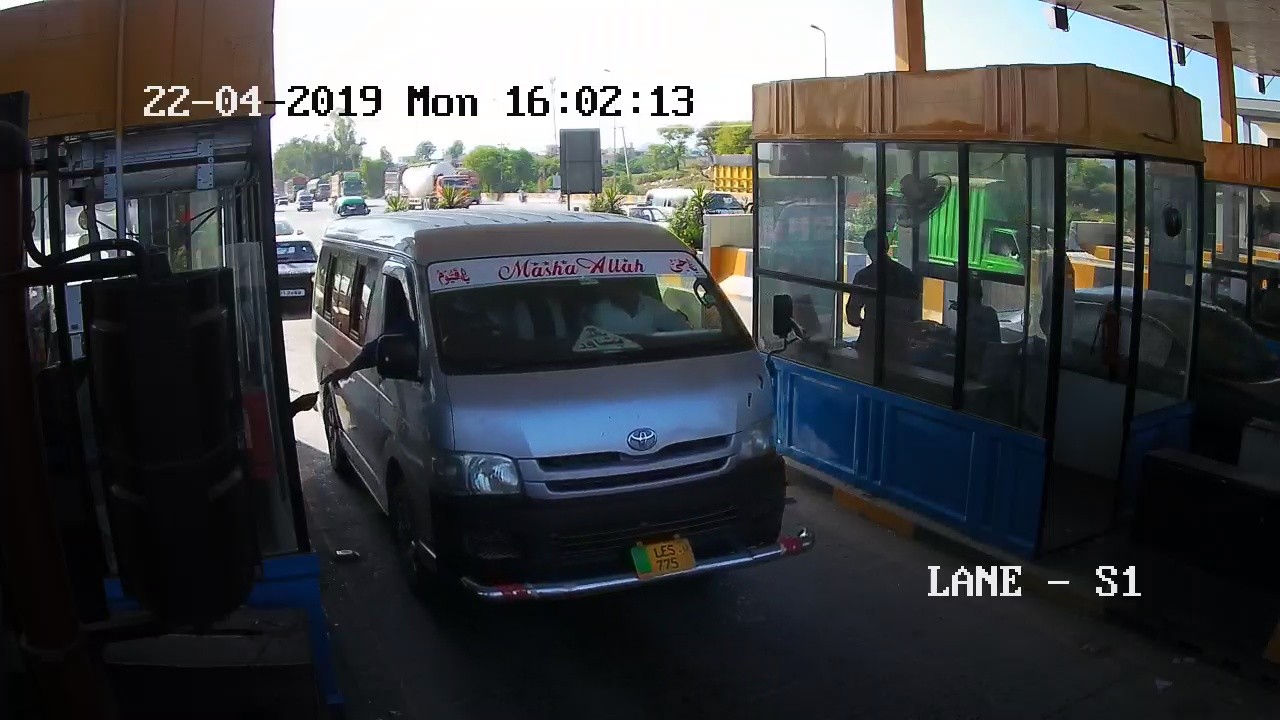Number Plate (Car): (628, 537, 697, 573)
